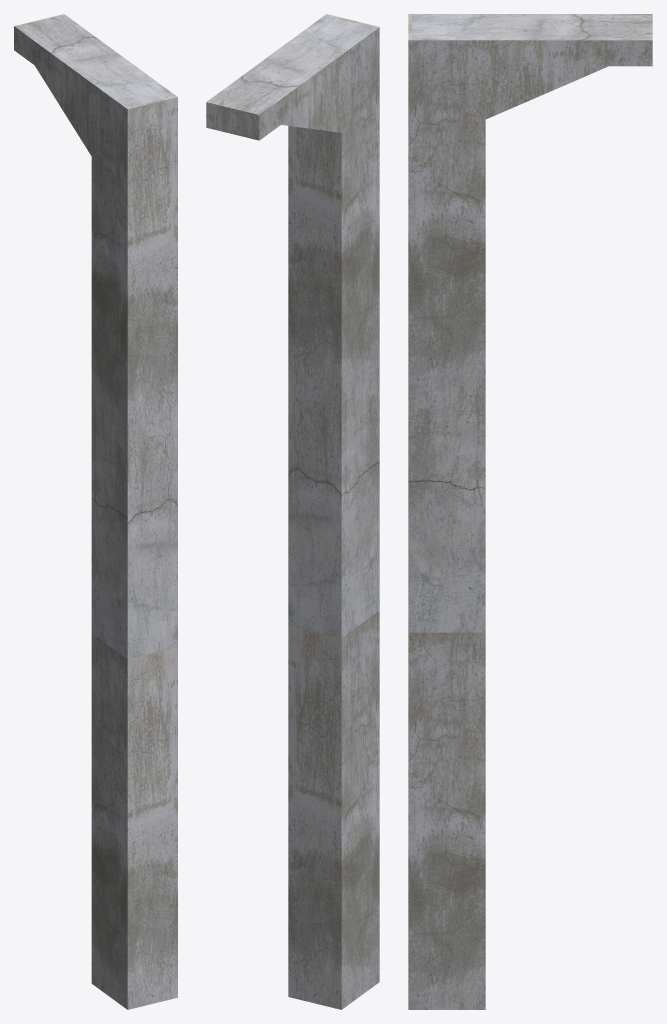
Rendered from JpHouse_23a_pile3.fbx.
3 views of the same model, side by side, from view 1: azimuth 30°, elevation 25°; view 2: azimuth 150°, elevation 25°; view 3: azimuth 270°, elevation 25° (orthographic). The views are drawn at different scales.
Visible parts, largest first — view 1: JpHouse_23a_pile3; view 2: JpHouse_23a_pile3; view 3: JpHouse_23a_pile3.
Part boxes in pixels (x1,y1,x2,y2): JpHouse_23a_pile3: (14, 14, 177, 1009); JpHouse_23a_pile3: (206, 14, 379, 1009); JpHouse_23a_pile3: (408, 14, 652, 1009).
Size of the model in its own units: 0.2736 by 4.69 by 1.07.
